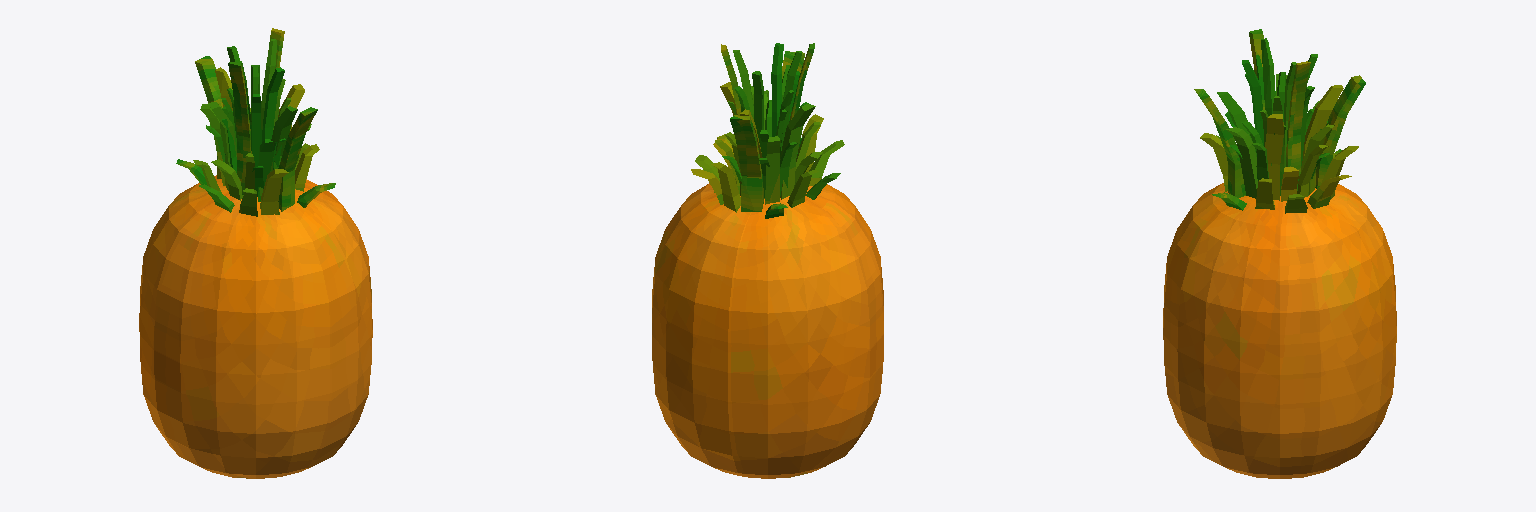
3 renders of one model, left to right at view 1: azimuth 30°, elevation 25°; view 2: azimuth 150°, elevation 25°; view 3: azimuth 270°, elevation 25°, orthographic.
Visible parts, largest first — view 1: Pineapple; view 2: Pineapple; view 3: Pineapple.
Part boxes in pixels (left/top/right/bottom): Pineapple: left=139, top=28, right=372, bottom=478; Pineapple: left=652, top=43, right=883, bottom=478; Pineapple: left=1163, top=29, right=1396, bottom=478.
Bounding box in the file's own units: 2.12 × 4.13 × 2.09.
Materials: 1 (1 with a texture image).